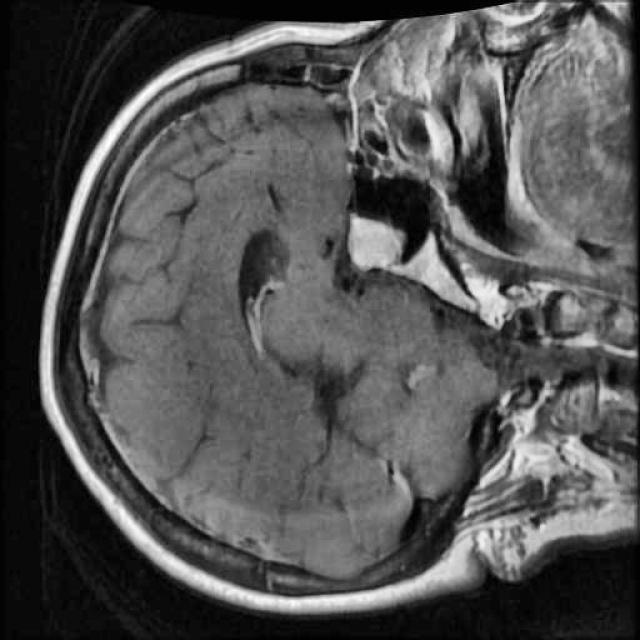Tumor: (335, 200, 415, 285)
